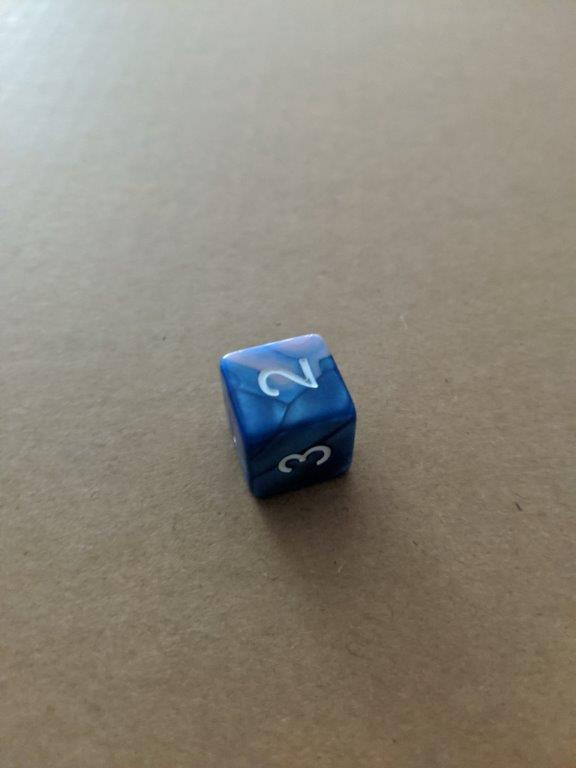d6-2: (220, 331, 357, 500)
